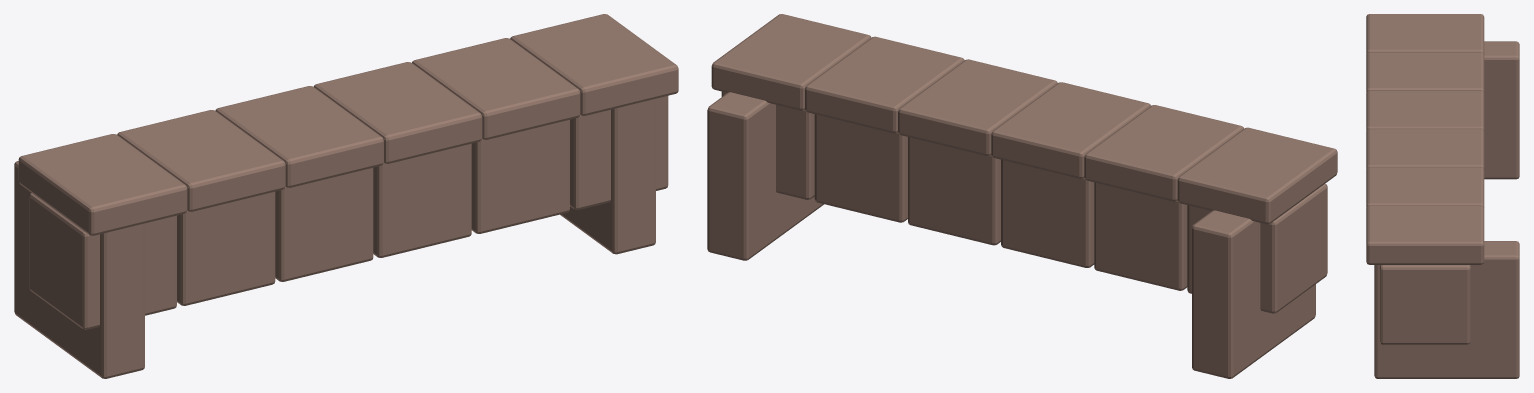
File: d2_retainer.glb
3 renders of one model, left to right at view 1: azimuth 30°, elevation 25°; view 2: azimuth 150°, elevation 25°; view 3: azimuth 270°, elevation 25°, orthographic. The views are drawn at different scales.
Parts seen in each view (by area): view 1: Body.007; view 2: Body.007; view 3: Body.007.
Boxes of the visible parts, left/top/right/bottom form: Body.007: left=14, top=14, right=678, bottom=378; Body.007: left=707, top=14, right=1337, bottom=378; Body.007: left=1366, top=14, right=1519, bottom=378.
Bounding box in the file's own units: 3 × 0.875 × 0.845.
